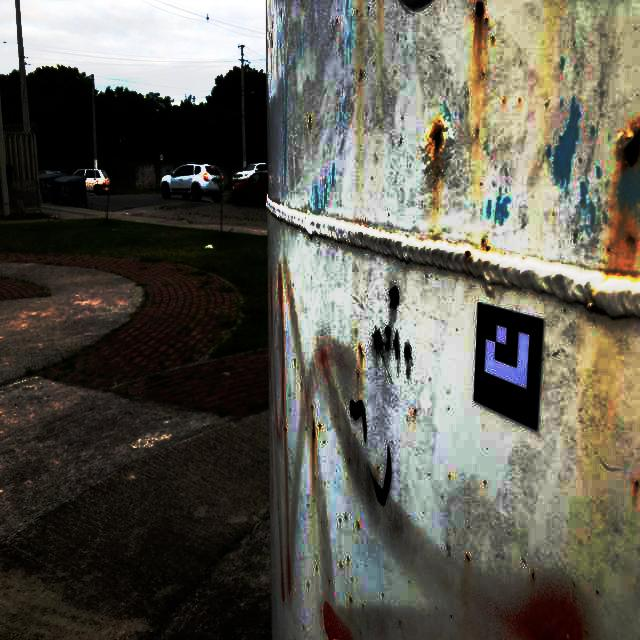Corrosion: (421, 115, 453, 187), (616, 122, 640, 176), (474, 0, 484, 21), (625, 234, 637, 245), (312, 422, 316, 441), (359, 346, 364, 358), (465, 250, 472, 258), (359, 69, 363, 80), (634, 481, 639, 489), (309, 116, 312, 128), (466, 554, 470, 561), (271, 35, 273, 47), (484, 18, 488, 23), (284, 427, 287, 431), (573, 581, 575, 587), (584, 630, 587, 634), (597, 590, 599, 595), (336, 19, 338, 23), (368, 7, 370, 11), (607, 248, 609, 252), (492, 37, 494, 40)
